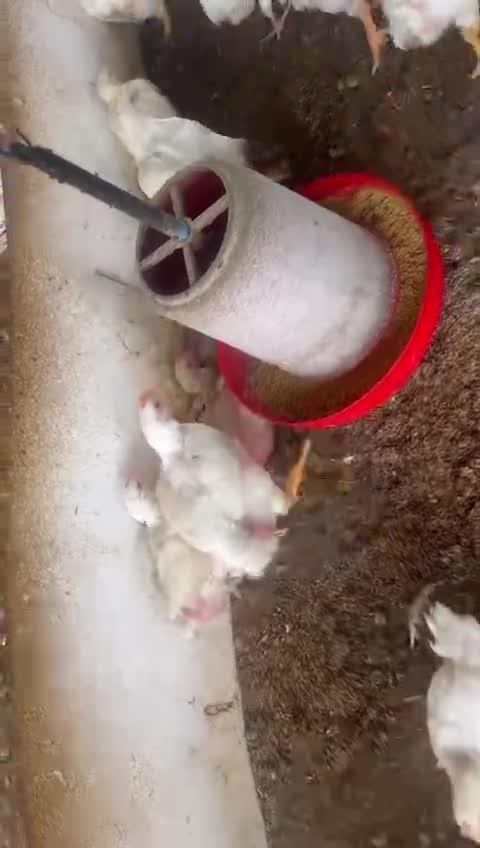AbNormal: (168, 343, 272, 451), (87, 61, 178, 126)
Normal: (134, 386, 320, 558), (416, 584, 480, 848), (115, 478, 232, 616), (100, 103, 248, 175)
